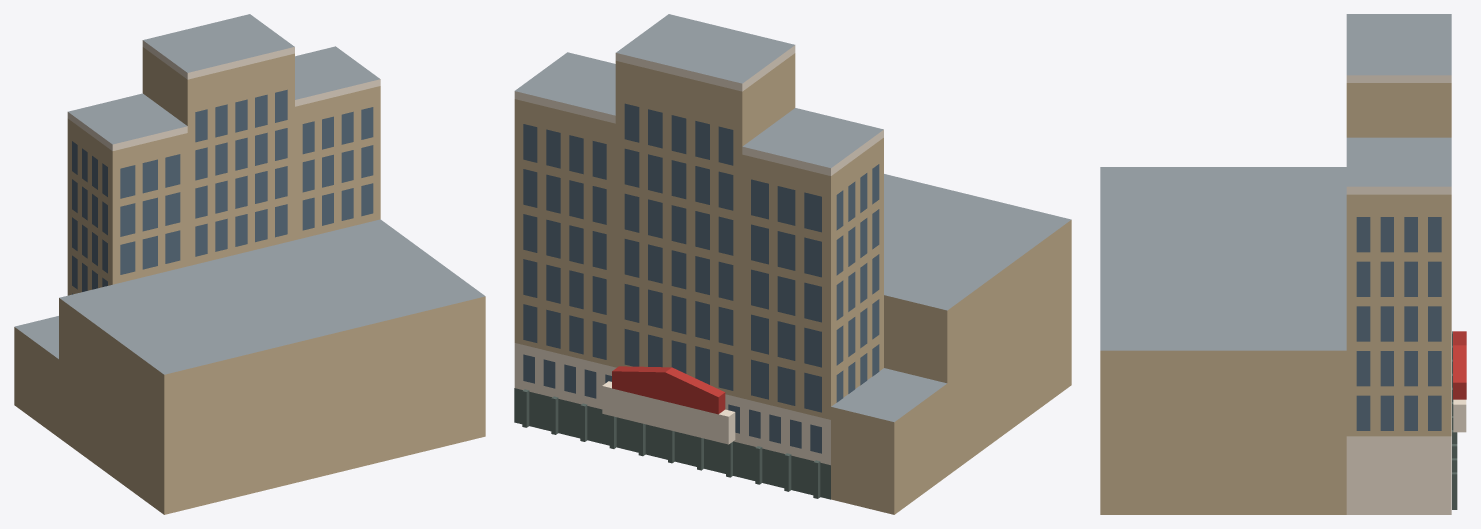
Rendered from sat-majestic-theatre.glb.
3 views of the same model, side by side, from view 1: azimuth 30°, elevation 25°; view 2: azimuth 150°, elevation 25°; view 3: azimuth 270°, elevation 25° (orthographic). The views are drawn at different scales.
Parts seen in each view (by area): view 1: Majestic Theatre; view 2: Majestic Theatre; view 3: Majestic Theatre.
Boxes of the visible parts, x1,y1,x2,y2 form: Majestic Theatre: [14, 14, 485, 514]; Majestic Theatre: [514, 14, 1071, 514]; Majestic Theatre: [1100, 14, 1466, 514].
Size of the model in its own units: 60.05 by 59.5 by 50.56.
